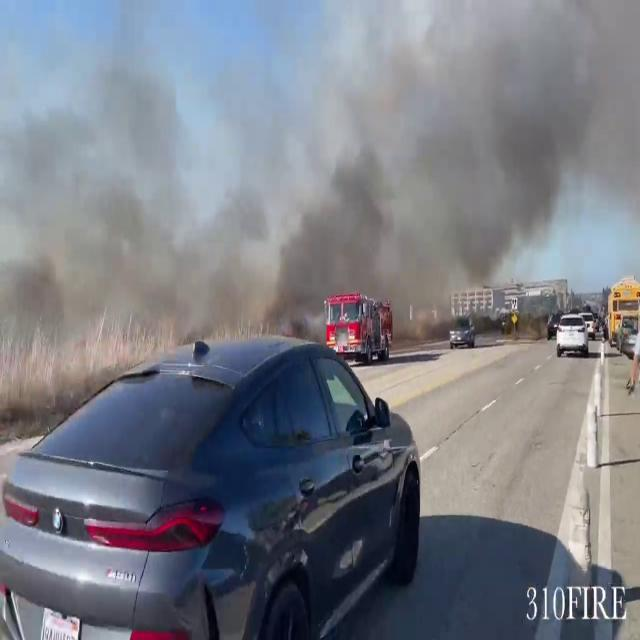Smoke: (280, 0, 640, 301), (2, 1, 296, 338)
